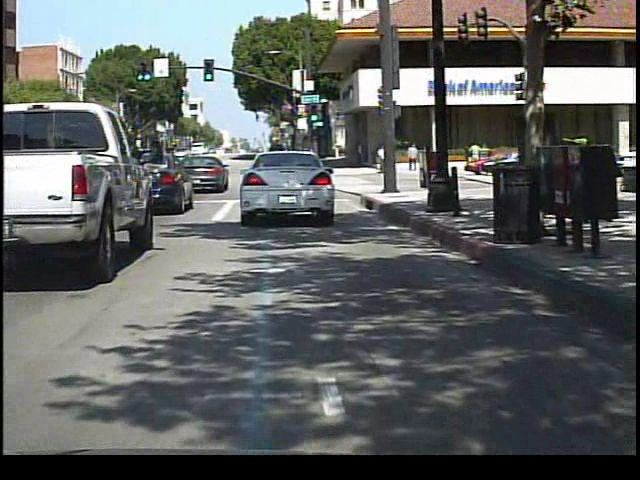person: (466, 138, 485, 172), (406, 142, 423, 174), (376, 140, 391, 175)
